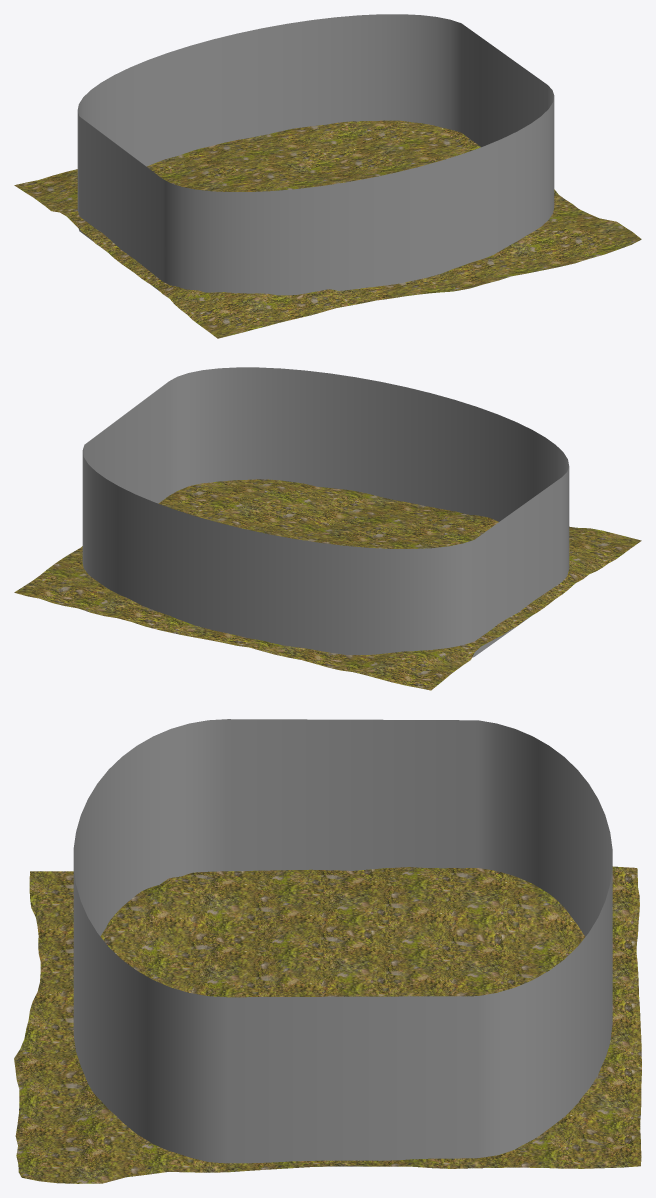
File: aquarium_environment.fbx
The picture shows the model from 3 angles, top to bottom: view 1: azimuth 30°, elevation 25°; view 2: azimuth 150°, elevation 25°; view 3: azimuth 270°, elevation 25°; orthographic projection. The views are drawn at different scales.
Visible parts, largest first — view 1: aquarium_wall, aquarium_ground; view 2: aquarium_wall, aquarium_ground; view 3: aquarium_wall, aquarium_ground.
Boxes of the visible parts, x1,y1,x2,y2 form: aquarium_wall: (77, 14, 554, 295); aquarium_ground: (14, 120, 641, 338); aquarium_wall: (82, 367, 569, 657); aquarium_ground: (14, 479, 641, 690); aquarium_wall: (73, 719, 612, 1166); aquarium_ground: (14, 866, 641, 1183).
Bounding box in the file's own units: 4414 × 1150 × 3817.
